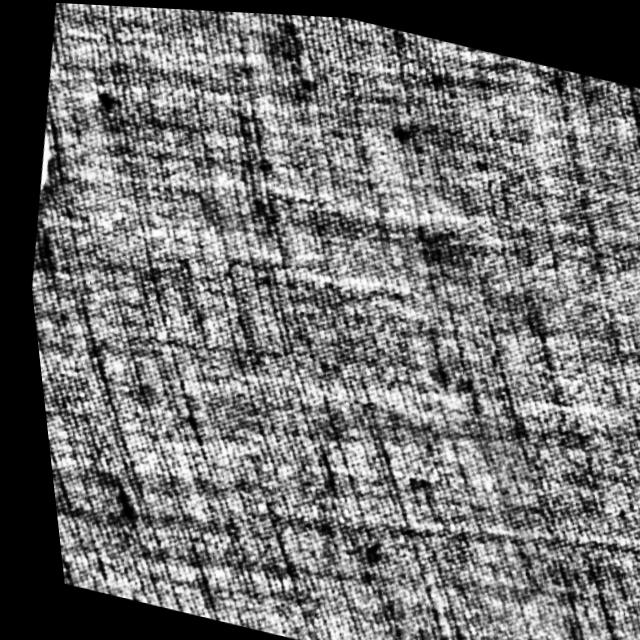Stitch: (21, 92, 74, 231)
